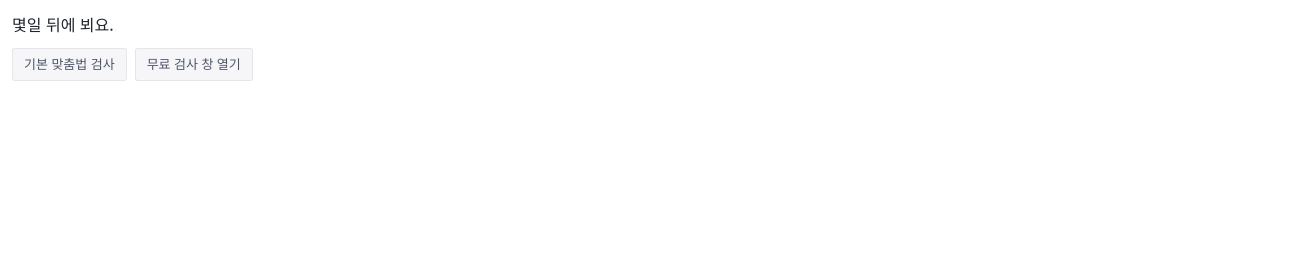
Test case: 글쓰기 맞춤법 검사 흐름 › 검사한 제안을 확인하고 모두 적용하면 글에 반영한다
Click the button "기본 맞춤법 검사".
click(69, 64)  # box [12,48,127,81]
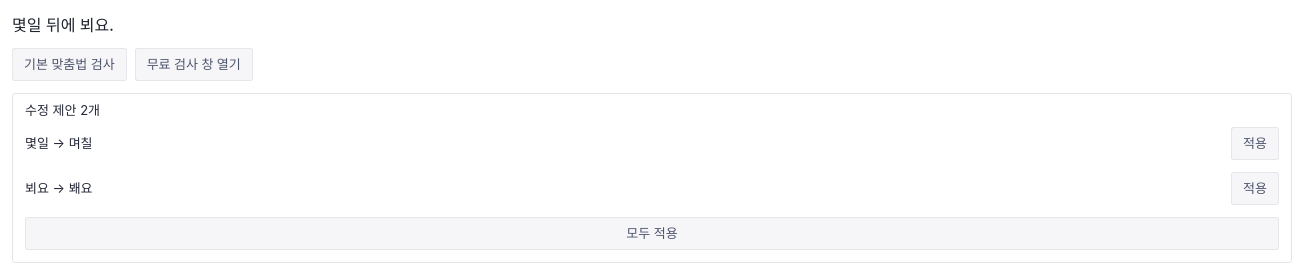
Check: the number of buttons "적용" is 2, box [1231,127,1279,160]; [1231,172,1279,205]
Click the button "모두 적용".
click(652, 233)  # box [25,217,1279,250]
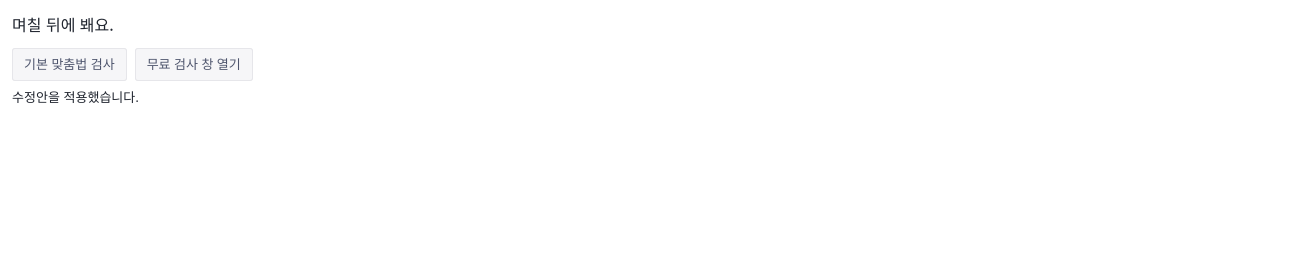
Check: the field named "글" holds "며칠 뒤에 봬요.", box [12,12,1292,36]
